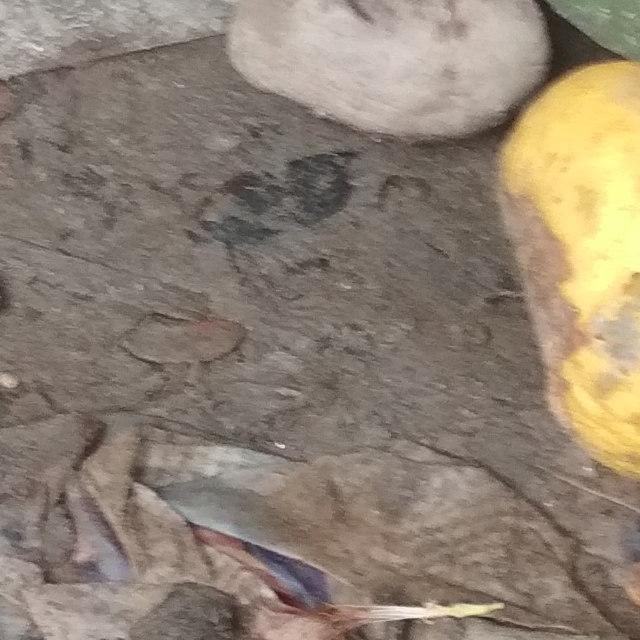food_waste: (442, 29, 640, 542), (158, 0, 594, 174)
